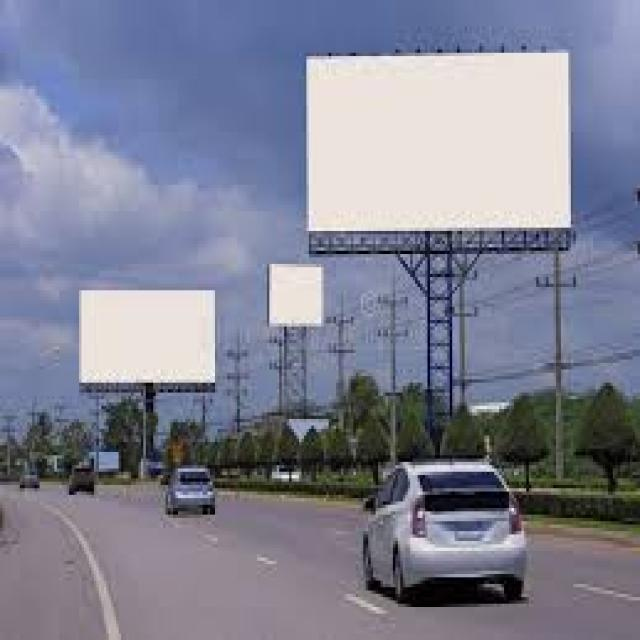Billboard_RHS: (303, 42, 585, 258), (77, 281, 225, 396)
Billboard_small: (266, 259, 328, 333)
Roadcorner: (13, 467, 140, 637), (536, 507, 638, 556)
Roadlane: (111, 476, 423, 634)
